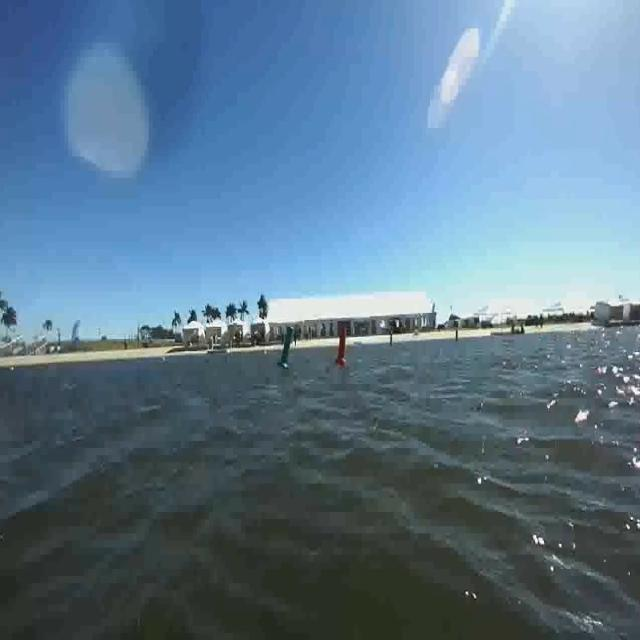green-column-buoy: (278, 324, 296, 368)
red-column-buoy: (336, 327, 349, 368)
